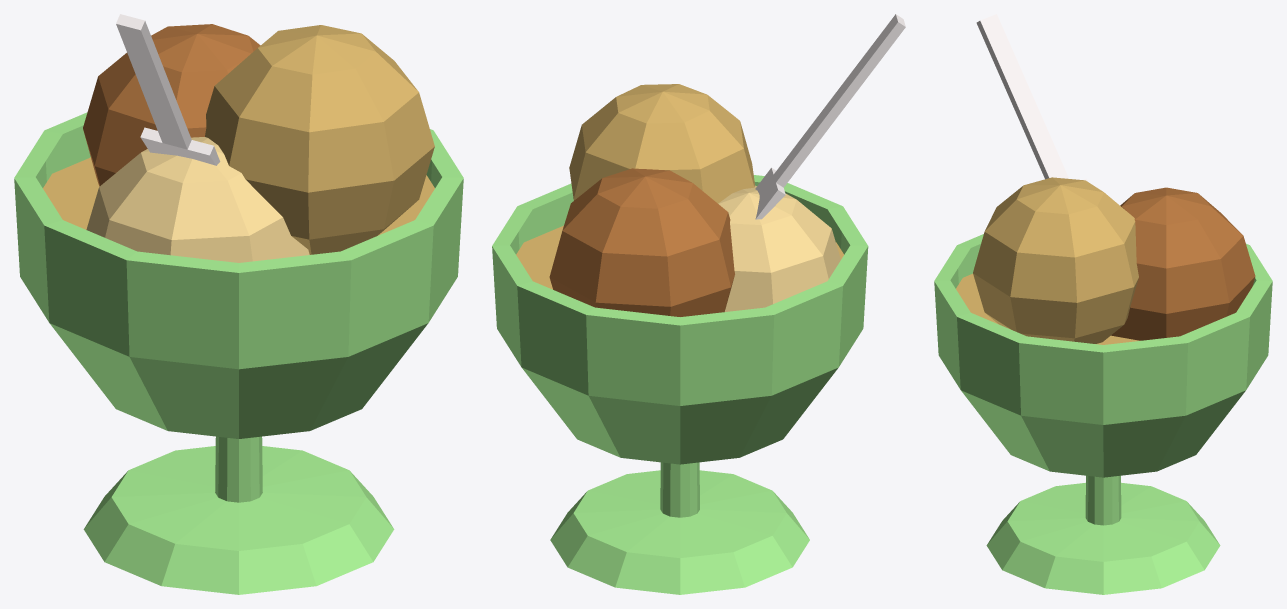
Rendered from ice_cream.fbx.
3 views of the same model, side by side, from view 1: azimuth 30°, elevation 25°; view 2: azimuth 150°, elevation 25°; view 3: azimuth 270°, elevation 25° (orthographic). The views are drawn at different scales.
Visible parts, largest first — view 1: Plane, Sphere.001, Sphere.002, Sphere, Cube, Circle.001; view 2: Plane, Sphere, Sphere.001, Sphere.002, Cube, Circle.001; view 3: Plane, Sphere.001, Sphere, Cube, Circle.001.
Boxes of the visible parts, bbox=[...] form: Plane: bbox=[14, 112, 463, 594]; Sphere.001: bbox=[205, 25, 434, 254]; Sphere.002: bbox=[86, 137, 309, 262]; Sphere: bbox=[83, 24, 260, 186]; Cube: bbox=[116, 14, 220, 165]; Circle.001: bbox=[43, 157, 434, 235]; Plane: bbox=[492, 175, 868, 594]; Sphere: bbox=[549, 168, 734, 316]; Sphere.001: bbox=[569, 84, 754, 203]; Sphere.002: bbox=[718, 185, 840, 311]; Cube: bbox=[755, 14, 905, 219]; Circle.001: bbox=[516, 225, 843, 289]; Plane: bbox=[934, 234, 1272, 594]; Sphere.001: bbox=[973, 177, 1138, 343]; Sphere: bbox=[1111, 187, 1255, 340]; Cube: bbox=[976, 14, 1087, 181]; Circle.001: bbox=[956, 273, 1140, 344].
Size of the model in its own units: 0.1659 by 0.2486 by 0.1652.
1 material, 1 textured.
